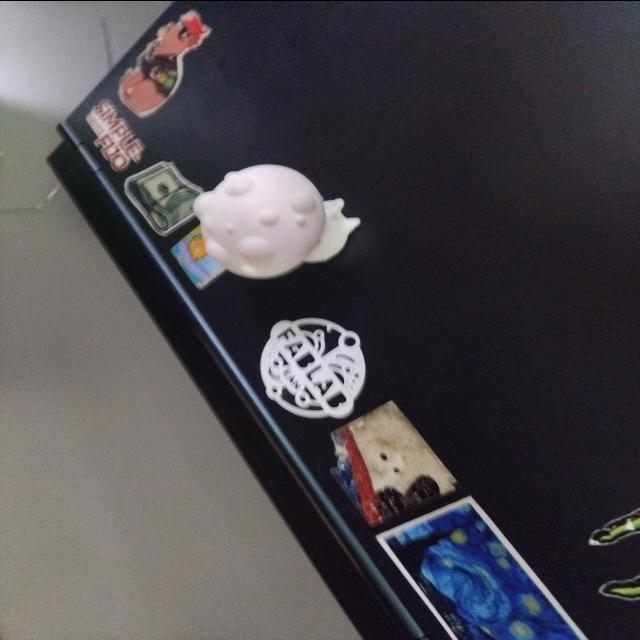Hongo: (196, 152, 372, 284)
